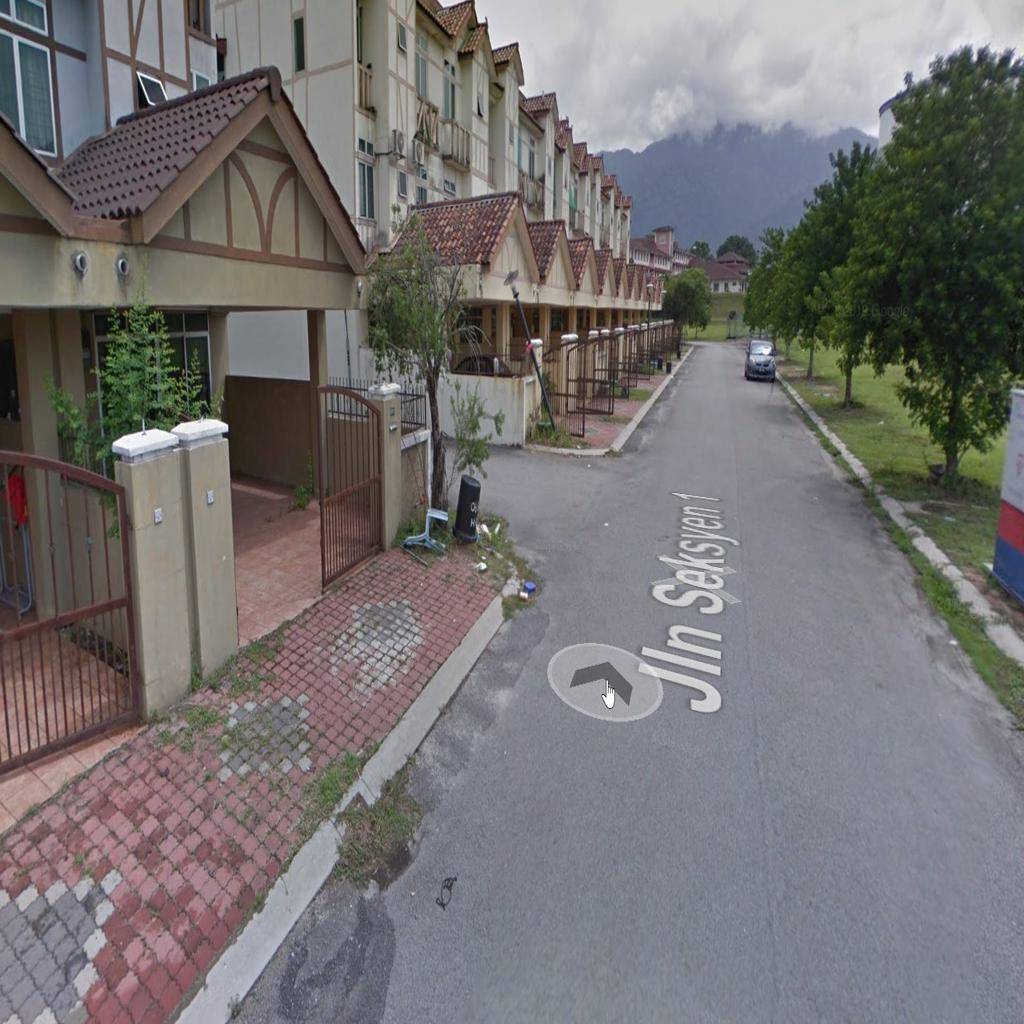Junction: (431, 412, 691, 638)
